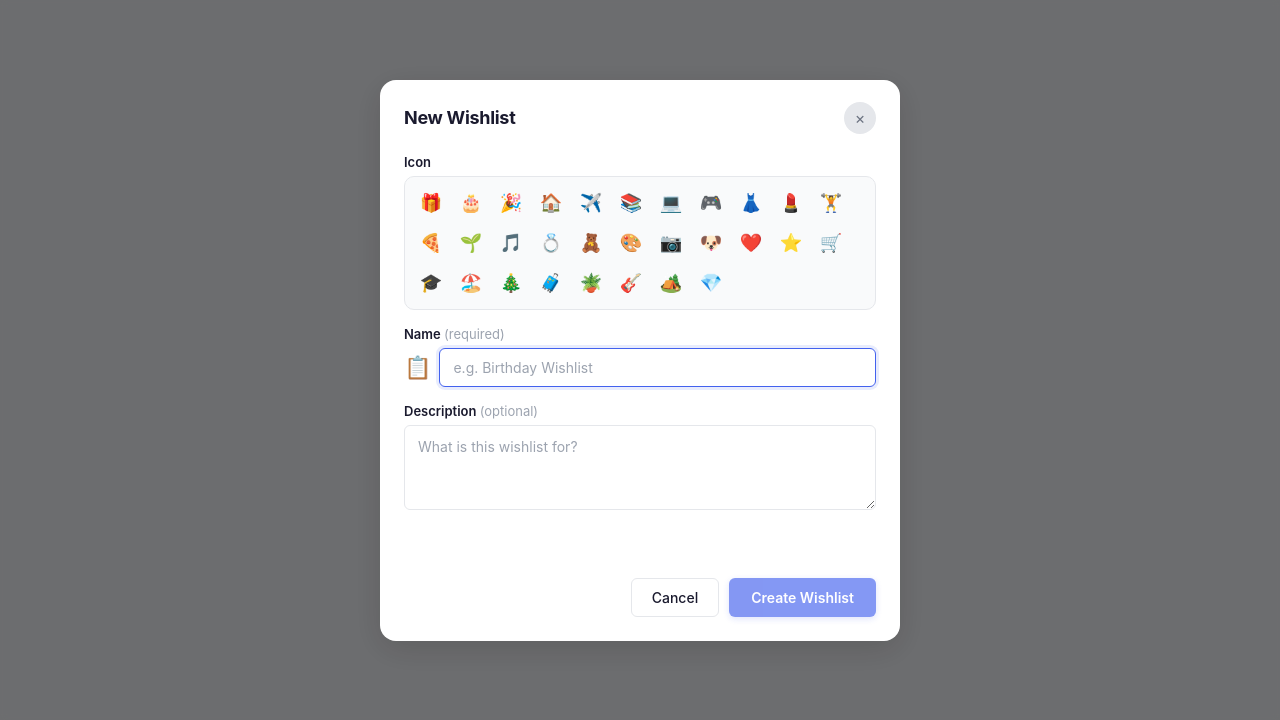
Scenario: NewWishlistModal – emoji picker › emoji preview updates when emoji is selected
Click the button with class "emoji-picker-btn" showing "🎉".
click(511, 202)  # box [493, 184, 529, 220]
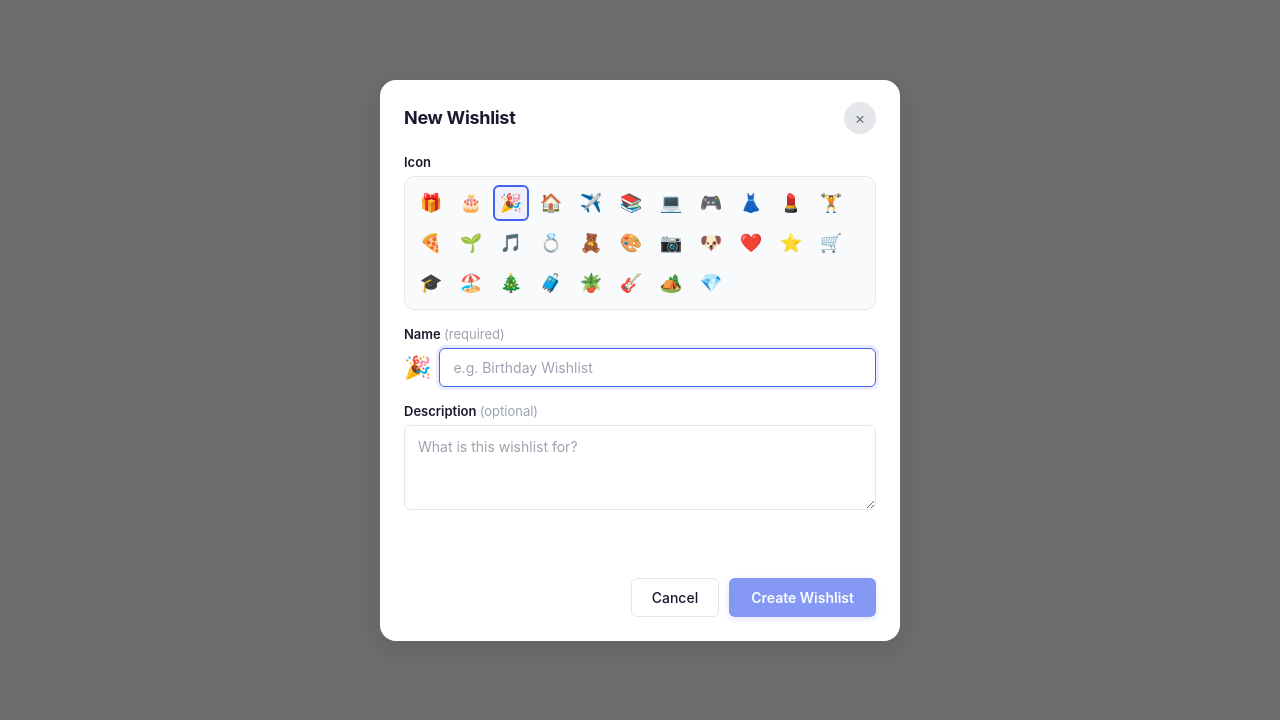
Expected: the text with class "wl-name-emoji-preview" no longer shows "📋"
